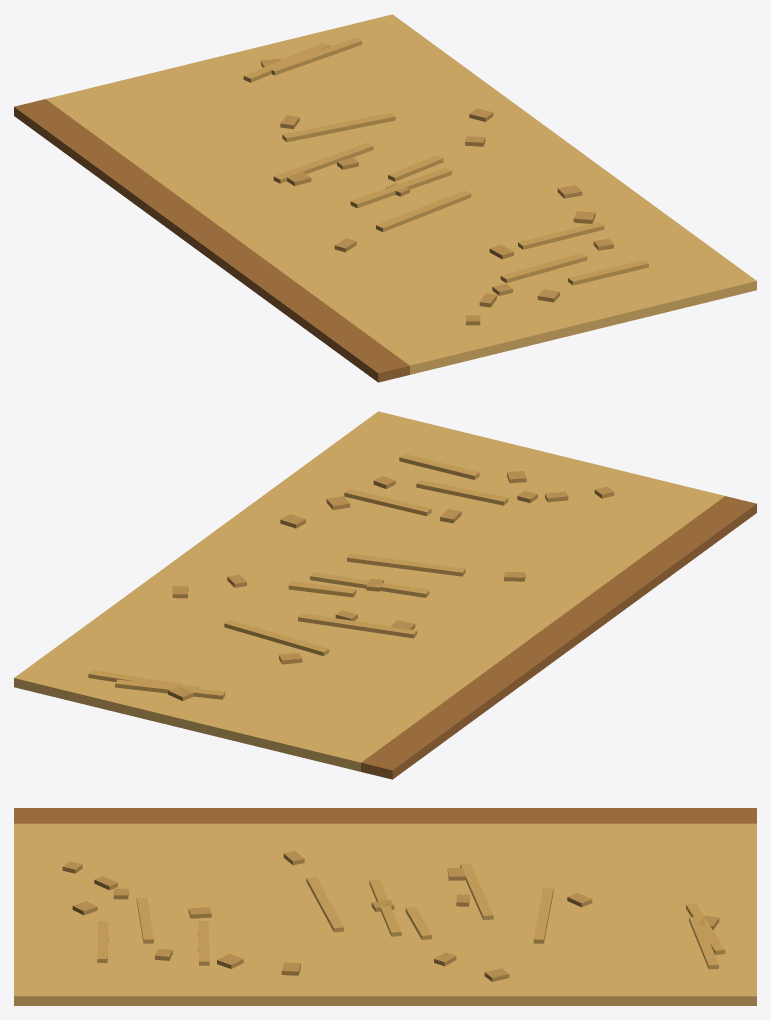
The model's file is env_r5_verge.glb.
The picture shows the model from 3 angles, top to bottom: view 1: azimuth 30°, elevation 25°; view 2: azimuth 150°, elevation 25°; view 3: azimuth 270°, elevation 25°; orthographic projection.
Visible parts, largest first — view 1: env_r5_verge; view 2: env_r5_verge; view 3: env_r5_verge.
Boxes of the visible parts, x1,y1,x2,y2 form: env_r5_verge: (14,14,756,382); env_r5_verge: (14,411,756,779); env_r5_verge: (14,808,756,1005).
Bounding box in the file's own units: 6 × 0.2 × 10.
Materials: 1 (1 with a texture image).
